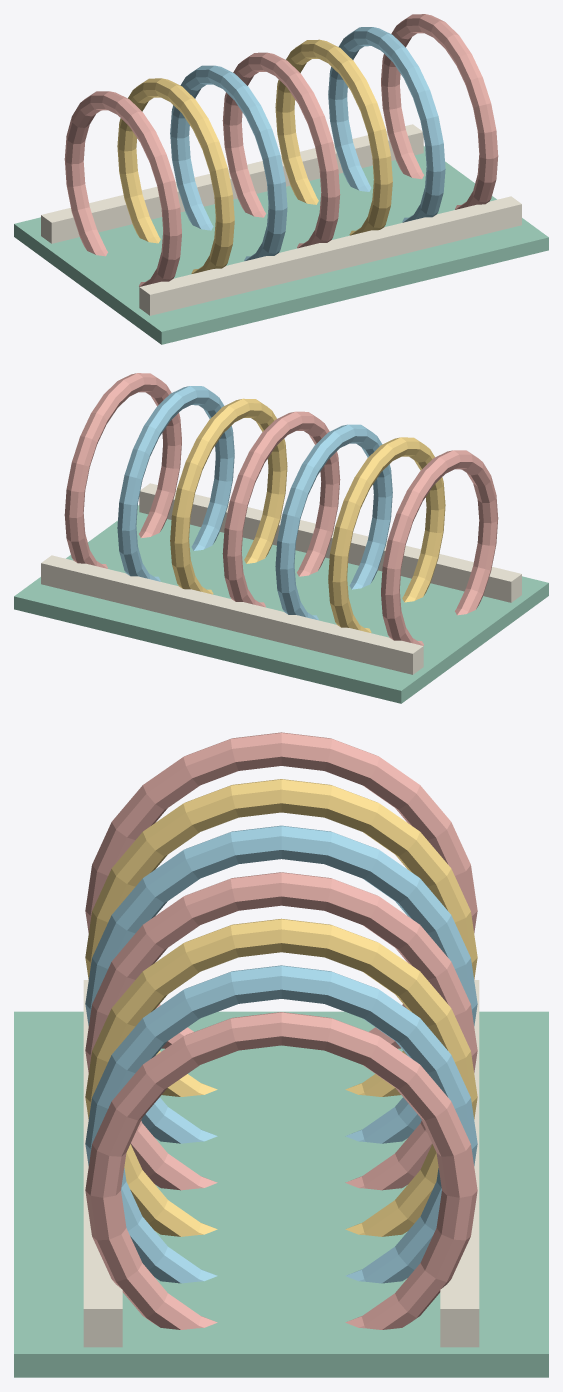
File: agility-tunnel.glb
3 renders of one model, top to bottom at view 1: azimuth 30°, elevation 25°; view 2: azimuth 150°, elevation 25°; view 3: azimuth 270°, elevation 25°, orthographic. The views are drawn at different scales.
Visible parts, largest first — view 1: tunnel mat, rainbow tunnel rib.001, soft tunnel runner, rainbow tunnel rib.002, rainbow tunnel rib.003; view 2: tunnel mat, rainbow tunnel rib.001, soft tunnel runner, rainbow tunnel rib.002, rainbow tunnel rib.003; view 3: tunnel mat, rainbow tunnel rib.001, rainbow tunnel rib.003, rainbow tunnel rib.002, soft tunnel runner.
Part boxes in pixels (left/top/right/bottom): tunnel mat: left=14, top=146, right=548, bottom=344; rainbow tunnel rib.001: left=64, top=14, right=498, bottom=286; soft tunnel runner: left=41, top=124, right=521, bottom=315; rainbow tunnel rib.002: left=117, top=39, right=392, bottom=273; rainbow tunnel rib.003: left=170, top=27, right=445, bottom=260; tunnel mat: left=14, top=505, right=548, bottom=703; rainbow tunnel rib.001: left=64, top=373, right=498, bottom=645; soft tunnel runner: left=41, top=483, right=521, bottom=674; rainbow tunnel rib.002: left=170, top=398, right=445, bottom=632; rainbow tunnel rib.003: left=117, top=386, right=392, bottom=619; tunnel mat: left=14, top=1011, right=548, bottom=1377; rainbow tunnel rib.001: left=85, top=732, right=477, bottom=1329; rainbow tunnel rib.003: left=85, top=825, right=477, bottom=1283; rainbow tunnel rib.002: left=85, top=779, right=477, bottom=1236; soft tunnel runner: left=83, top=980, right=479, bottom=1347.
Size of the model in its own units: 2.5 by 1.21 by 1.65.
